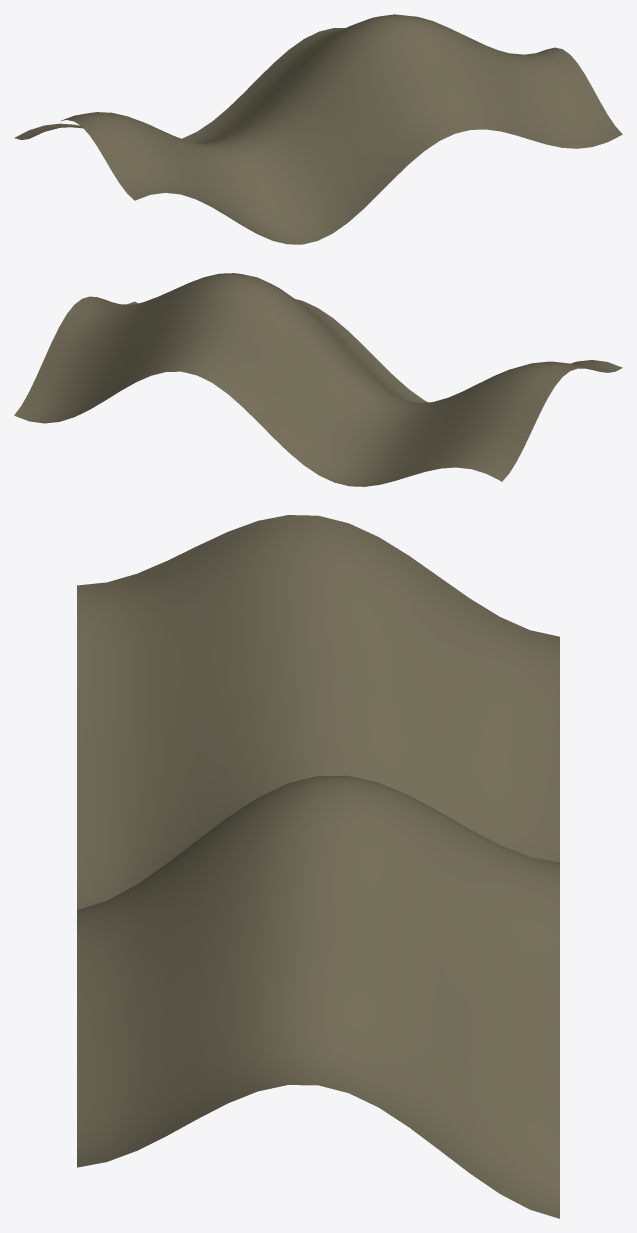
Rendered from galilee-ridge-35568028.glb.
3 views of the same model, one above another, from view 1: azimuth 30°, elevation 25°; view 2: azimuth 150°, elevation 25°; view 3: azimuth 270°, elevation 25° (orthographic). The views are drawn at different scales.
Bounding box in the file's own units: 700 × 192 × 300.
